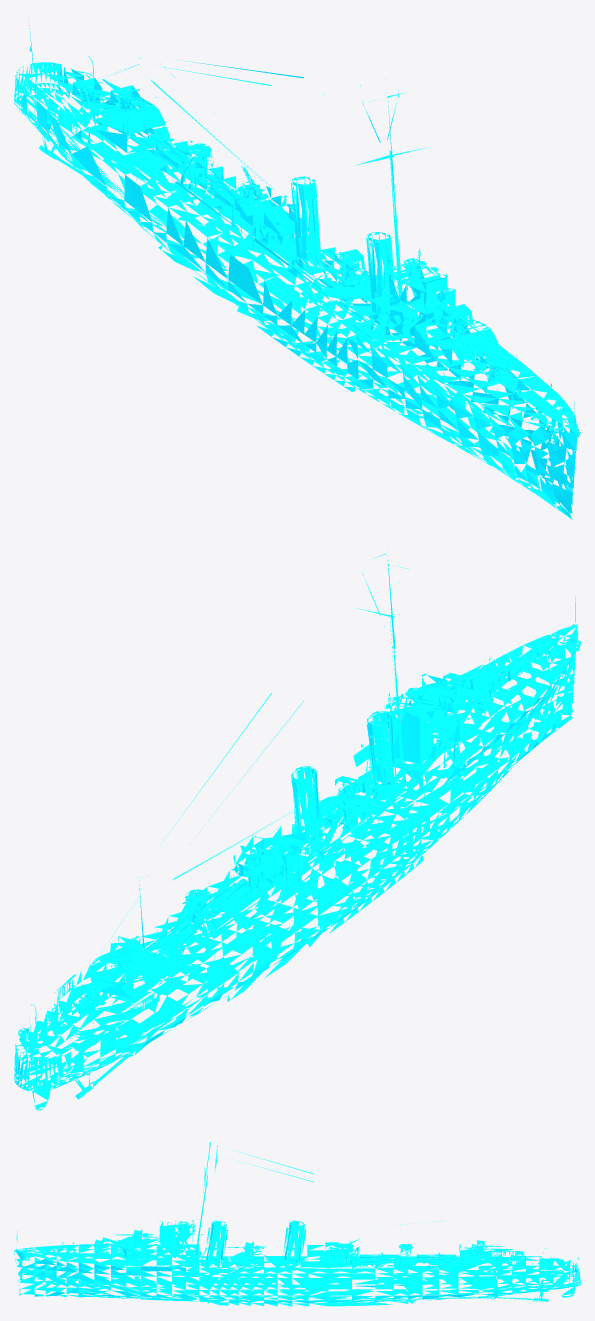
Rendered from PVSD016.glb.
3 views of the same model, one above another, from view 1: azimuth 30°, elevation 25°; view 2: azimuth 150°, elevation 25°; view 3: azimuth 270°, elevation 25° (orthographic). The views are drawn at different scales.
Visible parts, largest first — view 1: hull_mid, main_battery, torpedo; view 2: hull_mid, main_battery, torpedo; view 3: hull_mid, main_battery, torpedo.
Boxes of the visible parts, x1,y1,x2,y2 form: hull_mid: (14, 21, 580, 519); main_battery: (65, 72, 516, 382); torpedo: (140, 130, 250, 211); hull_mid: (14, 549, 580, 1110); main_battery: (66, 658, 517, 1014); torpedo: (145, 878, 251, 954); hull_mid: (14, 1141, 580, 1306); main_battery: (77, 1229, 541, 1266); torpedo: (359, 1252, 456, 1264).
Size of the model in its own units: 0.6433 by 2.1 by 6.77.
